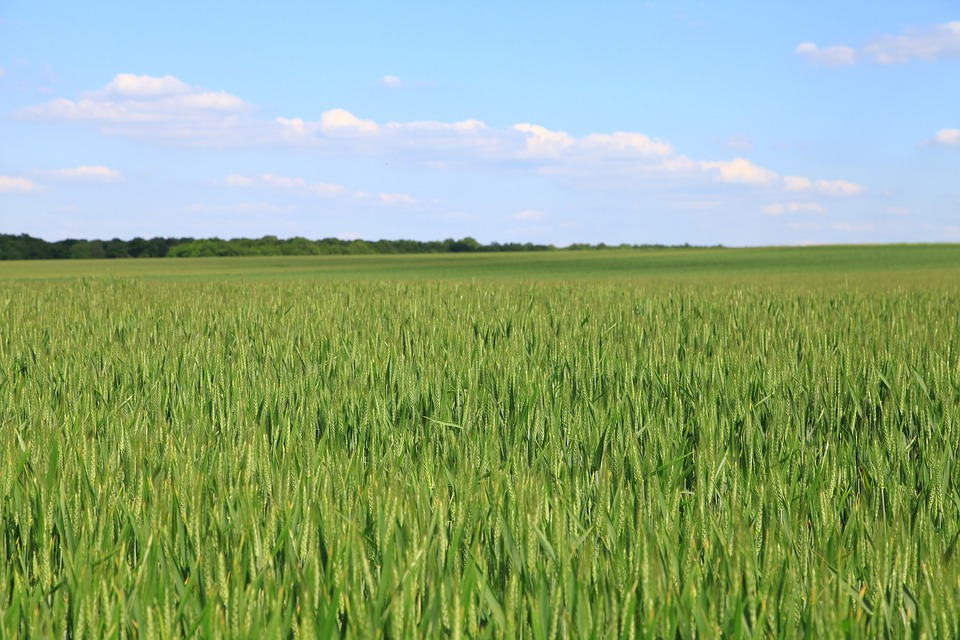Wheat: (56, 333, 913, 596)
